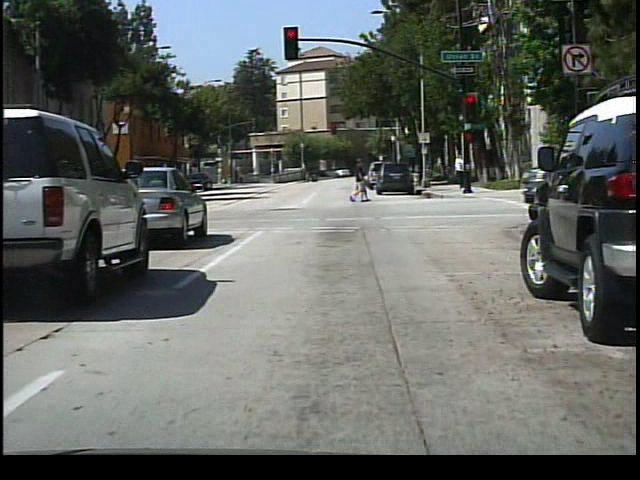person: (349, 157, 374, 206), (452, 150, 471, 192)
